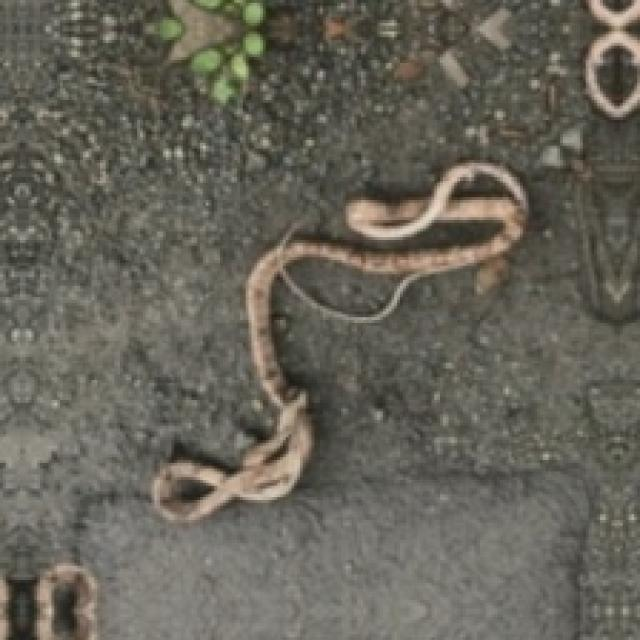dog-toothed cat snake: (151, 160, 526, 520), (283, 257, 400, 314)
